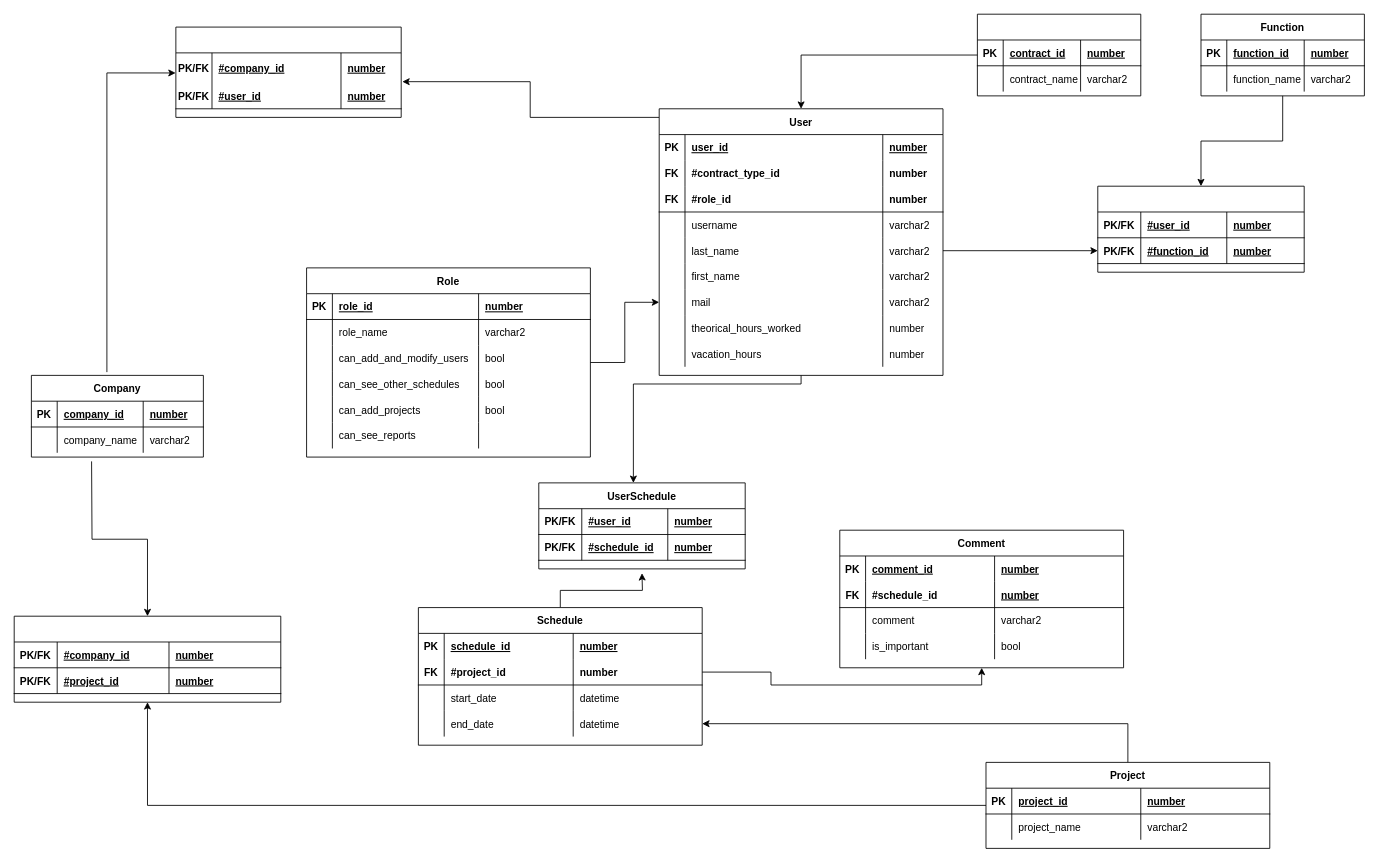
The diagram is 1379 pixels wide and 863 high, and some of its shapes have lost their labels. Each missing label, with the box of its shape:
CompanyProject: (13, 615, 281, 702)
CompanyUser: (175, 26, 401, 117)
ContractType: (977, 13, 1141, 96)
UserFunction: (1097, 185, 1304, 272)
